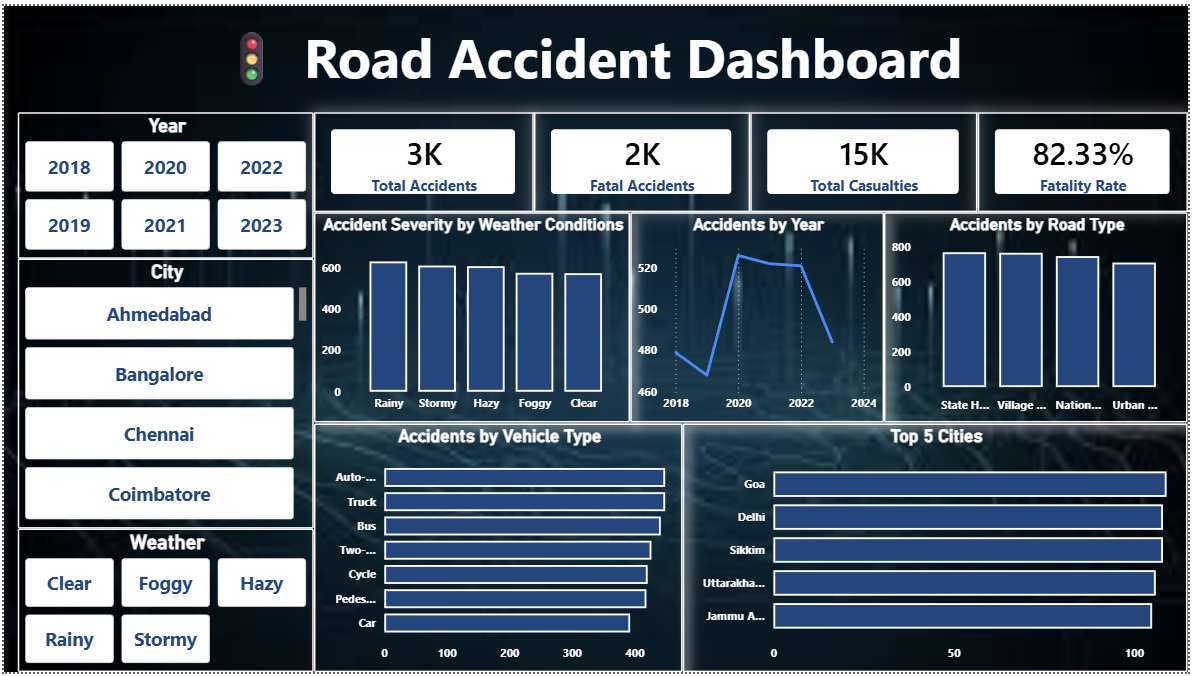

The page's visual inventory and layout, read from the dashboard file:
{"tool":"powerbi","page":{"name":"Page 1","canvas":[1280,720],"ordinal":0},"visuals":[{"type":"image","box":[0,0,1279.7,720.3],"z":0},{"type":"shape","box":[0,0,1279.7,93.2],"z":1000},{"type":"textbox","box":[0,9.5,1279.7,93.2],"z":2000},{"type":"cardVisual","fields":{"Data":["road_accident_cleaned.Fatality Rate (%)"]},"box":[1052.7,114.9,227,108.1],"z":3000},{"type":"cardVisual","fields":{"Data":["road_accident_cleaned.Total Casualties"]},"box":[806.8,114.9,245.9,108.1],"z":4000},{"type":"cardVisual","fields":{"Data":["road_accident_cleaned.Fatal Accidents"]},"box":[573,114.9,233.8,108.1],"z":5000},{"type":"cardVisual","title":"Total Accidents","fields":{"Data":["road_accident_cleaned.Total Accidents"]},"box":[335.1,114.9,237.8,108.1],"z":6000},{"type":"advancedSlicerVisual","title":"City","fields":{"Values":["road_accident_cleaned.city_name"]},"box":[14.9,273,320.3,291.9],"z":7000},{"type":"advancedSlicerVisual","title":"Year","fields":{"Values":["road_accident_cleaned.year"]},"box":[14.9,114.9,320.3,158.1],"z":8000},{"type":"advancedSlicerVisual","title":"Weather","fields":{"Values":["road_accident_cleaned.weather_conditions"]},"box":[14.9,564.9,320.3,155.4],"z":9000},{"type":"columnChart","title":"Accident Severity by Weather Conditions","fields":{"Category":["road_accident_cleaned.weather_conditions"],"Y":["road_accident_cleaned.Total Accidents"]},"box":[335.1,223,341.9,227],"z":10000},{"type":"lineChart","title":"Accidents by Year","fields":{"Category":["road_accident_cleaned.year"],"Y":["road_accident_cleaned.Total Accidents"]},"box":[677,223,274.3,227],"z":11000},{"type":"columnChart","title":"Accidents by Road Type","fields":{"Y":["road_accident_cleaned.Total Accidents"],"Category":["road_accident_cleaned.road_type"]},"box":[951.4,223,328.4,227],"z":12000},{"type":"barChart","title":"Accidents by Vehicle Type","fields":{"Y":["road_accident_cleaned.Total Accidents"],"Category":["road_accident_cleaned.vehicle_type_involved"]},"box":[335.1,451.4,398.6,268.9],"z":13000},{"type":"barChart","title":"Top 5 Cities","fields":{"Y":["road_accident_cleaned.Total Accidents"],"Category":["road_accident_cleaned.state_name"]},"box":[733.8,451.4,545.9,268.9],"z":14000}]}

Visuals, with their boxes in screenshot pixels (x1, y1, x2, y2), scaled from the page's 1280x720 canvas onto the 1192x676 screenshot:
image: 0 0 1191 675
shape: 0 0 1191 88
textbox: 0 9 1191 96
cardVisual - road_accident_cleaned.Fatality Rate (%): 980 108 1191 209
cardVisual - road_accident_cleaned.Total Casualties: 751 108 980 209
cardVisual - road_accident_cleaned.Fatal Accidents: 534 108 751 209
"Total Accidents" cardVisual: 312 108 534 209
"City" advancedSlicerVisual: 14 256 312 530
"Year" advancedSlicerVisual: 14 108 312 256
"Weather" advancedSlicerVisual: 14 530 312 675
"Accident Severity by Weather Conditions" columnChart: 312 209 630 422
"Accidents by Year" lineChart: 630 209 886 422
"Accidents by Road Type" columnChart: 886 209 1191 422
"Accidents by Vehicle Type" barChart: 312 424 683 675
"Top 5 Cities" barChart: 683 424 1191 675
